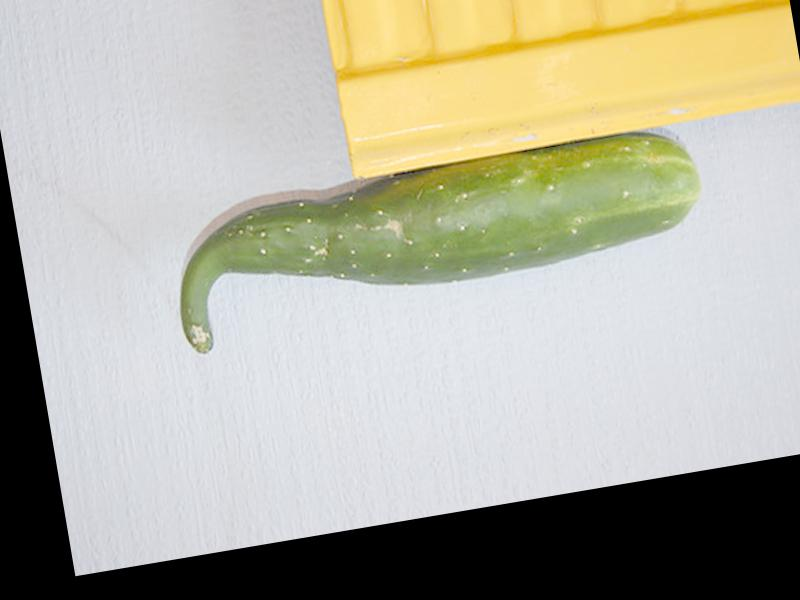Cucumber: (160, 122, 711, 358)
